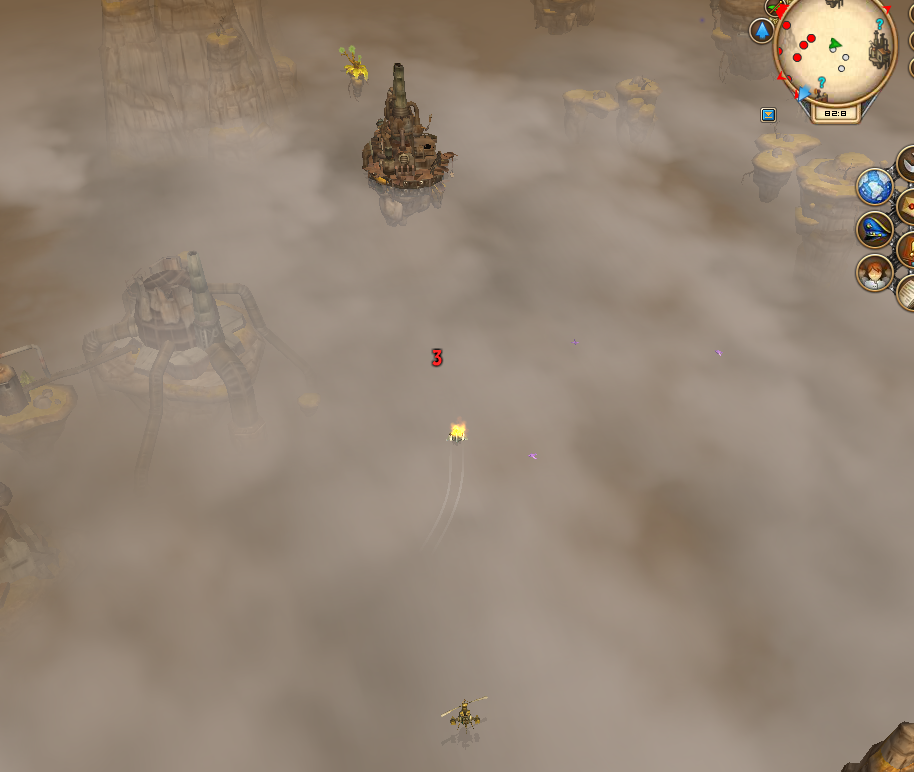dandelion-full: (333, 37, 373, 95)
